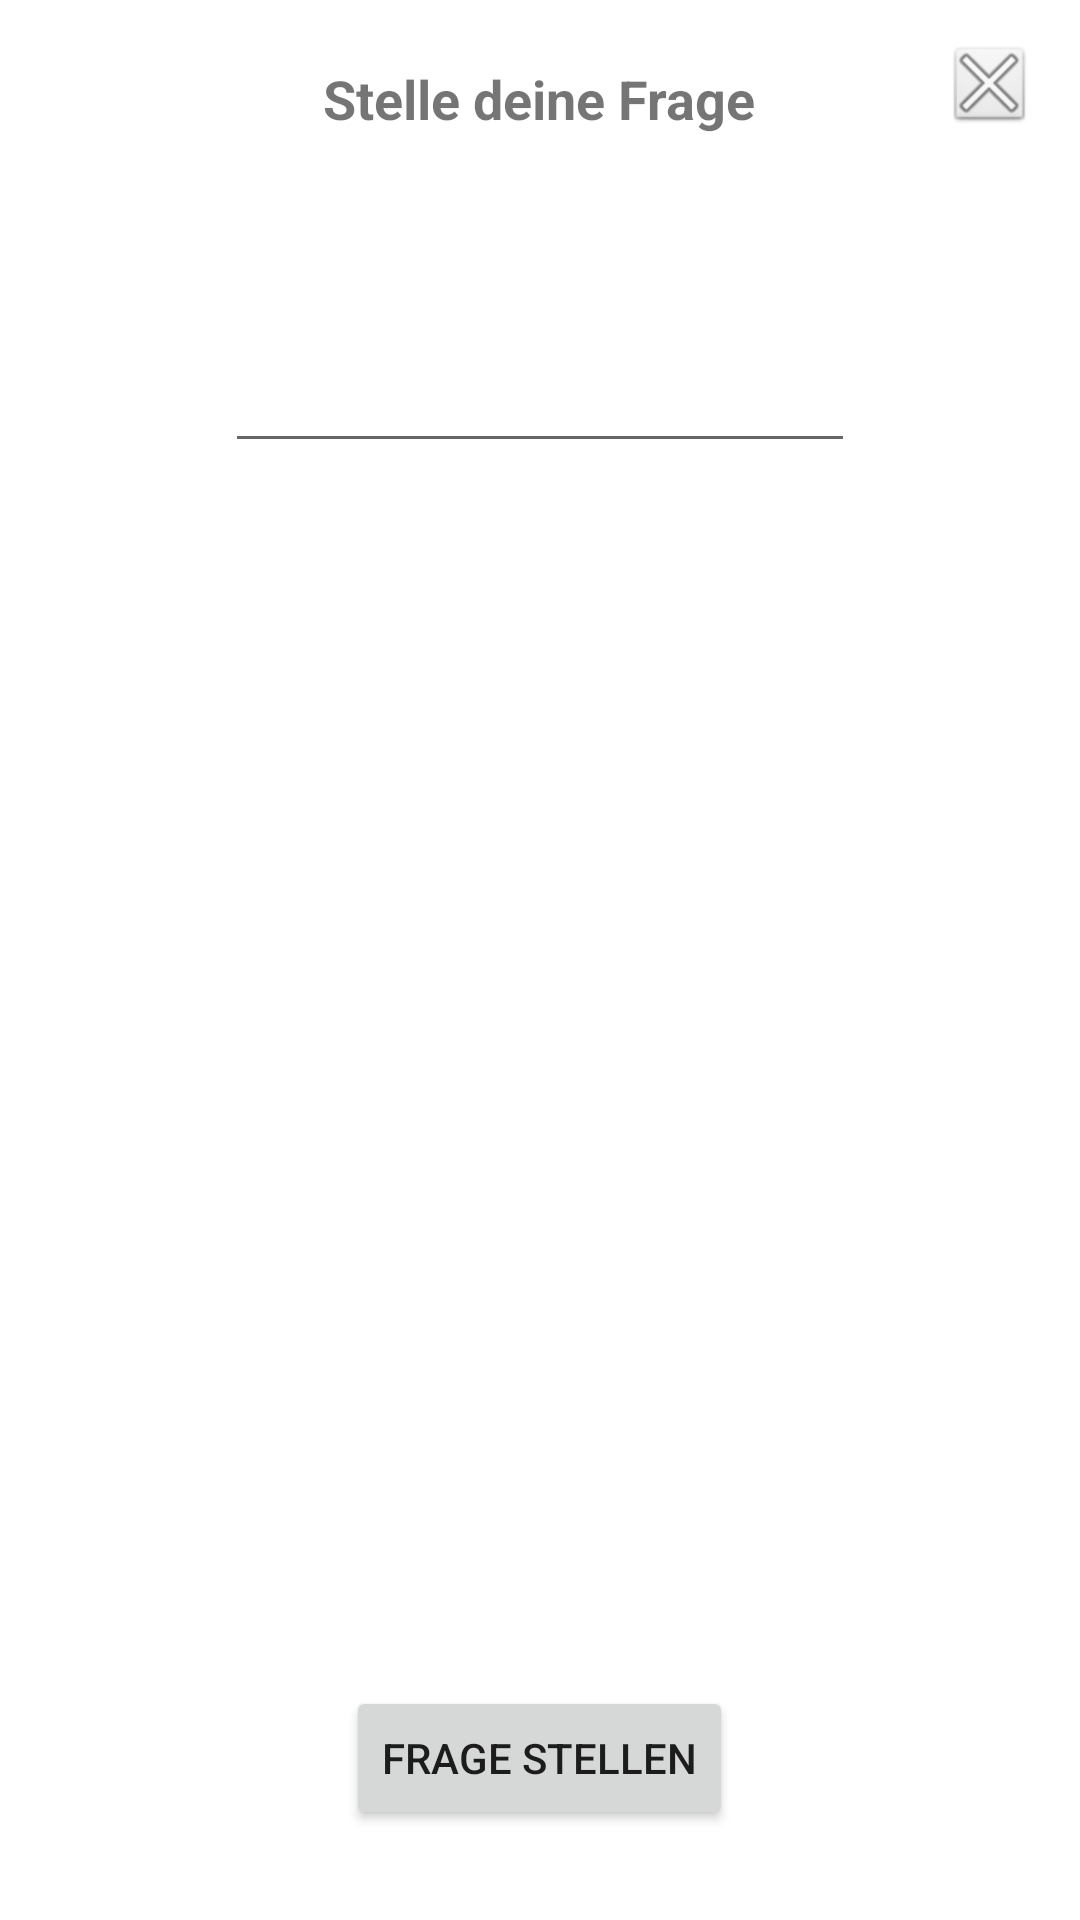

Where to tap for icons on this 1080*1920 app screen, as point (x, y):
close clear cancel: point (989, 85)
